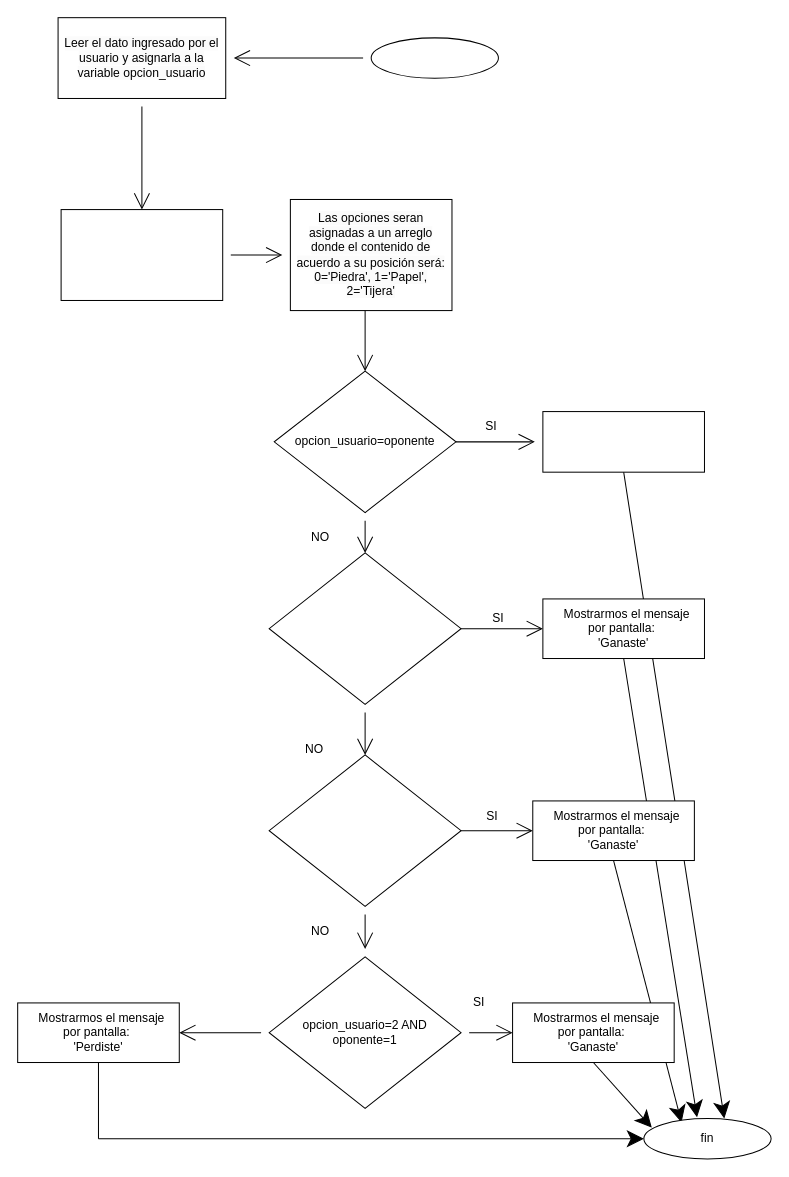
Some shapes in this 789 by 1177 pixel diagram are drawn without their labels. The shapes that lost their labels are listed below. From the top down, each one's centre as x and y in pixels, then its label:
the point at 434,57: inicio
the point at 141,254: Gestonar un número aleatorio entre 0 y 2 y asignarlo a la variable 'oponente'.
the point at 623,441: Mostrarmos el mensaje por pantalla: 'Empate'
the point at 364,628: opcion_usuario=0 AND oponente=2
the point at 364,830: opcion_usuario=1 AND oponente=0
